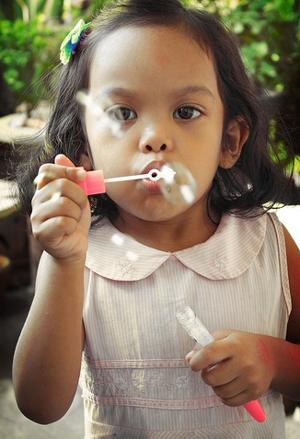person: (13, 1, 300, 439)
